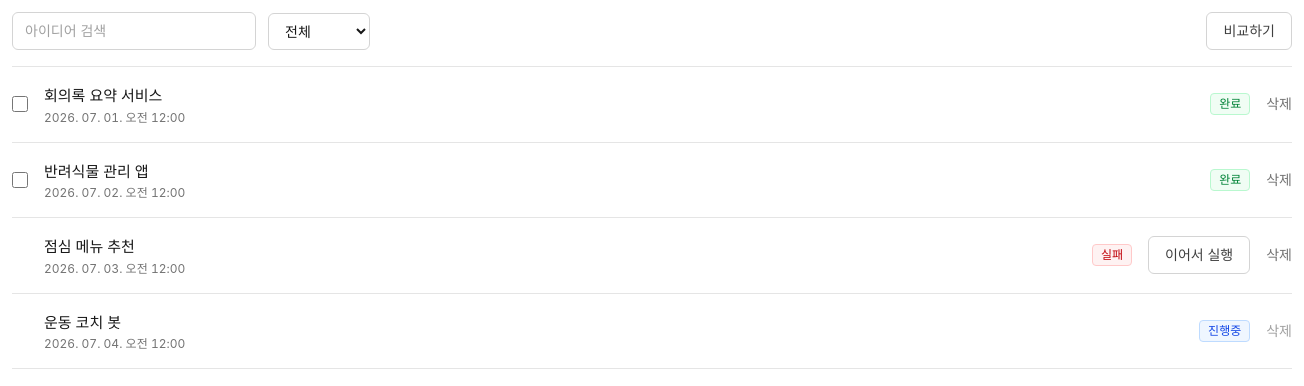
Test case: RunList 삭제 › 확인 단계를 거쳐야 DELETE가 나가고 목록에서 사라진다
The image size is (1304, 386).
expect the link "회의록 요약 서비스" is shown: met, box [44,86,162,105]
Click the button "삭제" in the row of "회의록 요약 서비스".
click(1279, 104)  # box [1266,94,1292,114]
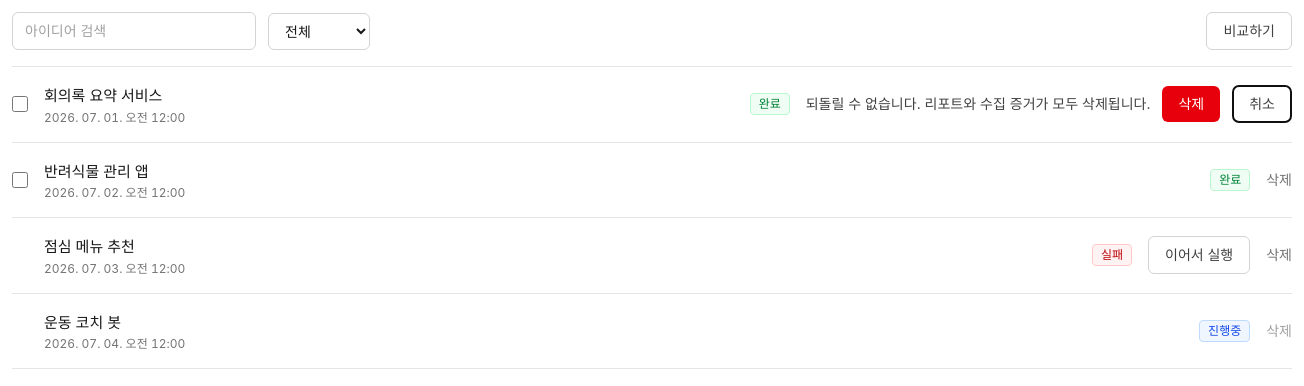
expect the text "되돌릴 수 없습니다. 리포트와 수집 증거가 모두 삭제됩니다." is shown: met, box [806,94,1150,114]
Click the button "삭제" next to "되돌릴 수 없습니다. 리포트와 수집 증거가 모두 삭제됩니다.".
click(1191, 104)  # box [1162,86,1220,122]
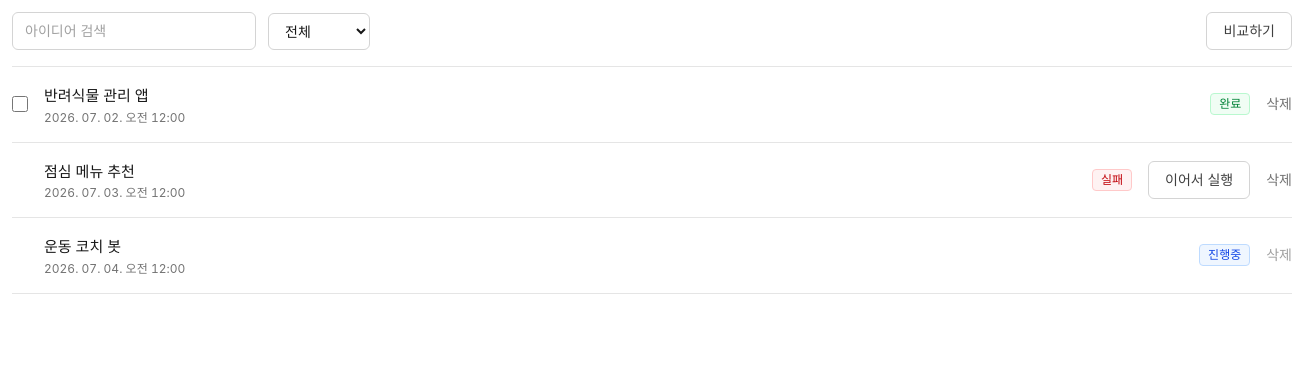
expect the link "회의록 요약 서비스" is gone: met
